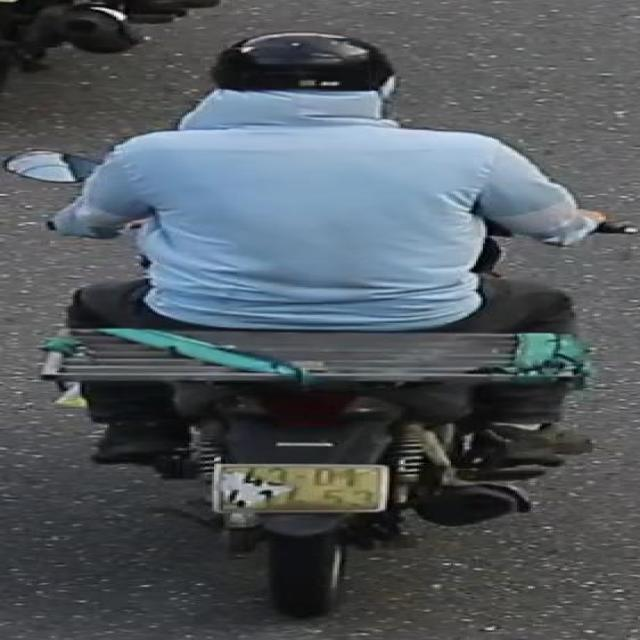LP: (208, 458, 396, 519)
helmet: (202, 26, 411, 148)
